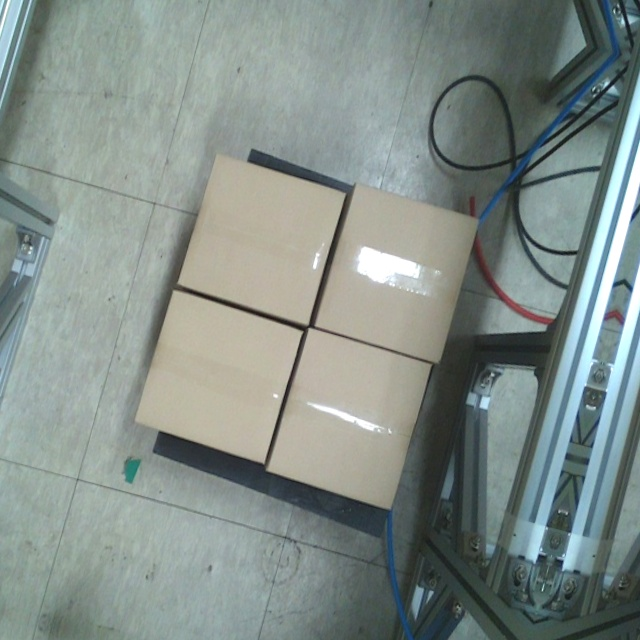box: (263, 325, 434, 513), (313, 179, 483, 366), (173, 151, 350, 330), (132, 287, 306, 465)
